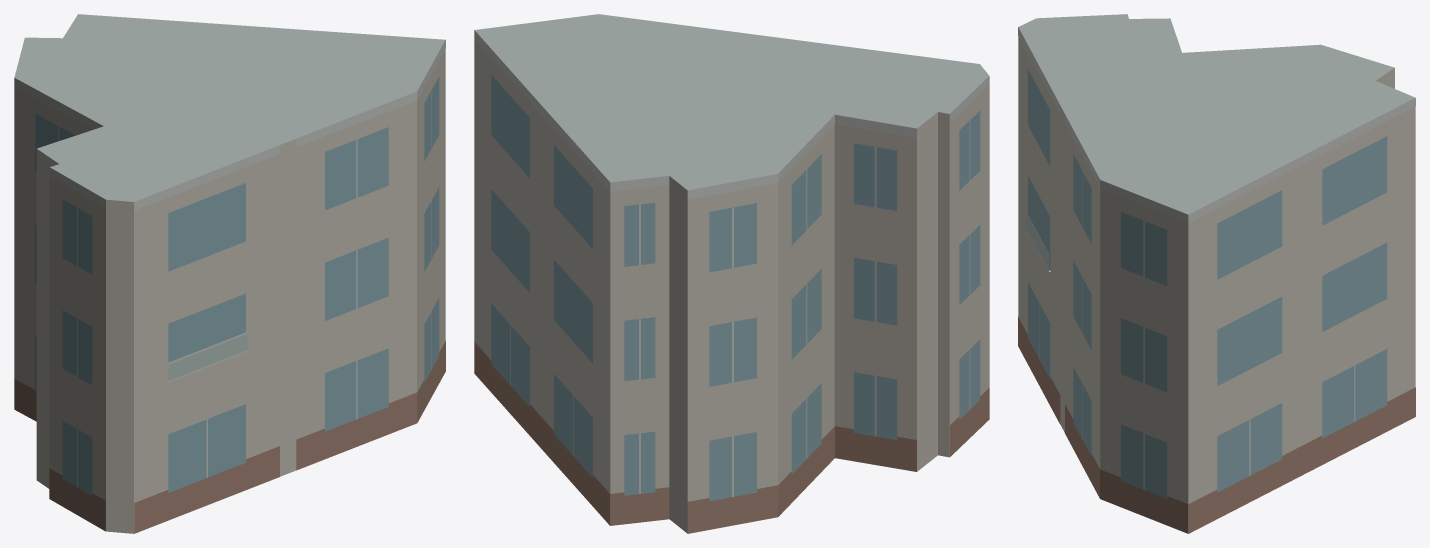
The model's file is survey-upis-32644976.glb.
3 views of the same model, side by side, from view 1: azimuth 30°, elevation 25°; view 2: azimuth 150°, elevation 25°; view 3: azimuth 270°, elevation 25° (orthographic). The views are drawn at different scales.
Parts seen in each view (by area): view 1: survey-upis-32644976.tmp; view 2: survey-upis-32644976.tmp; view 3: survey-upis-32644976.tmp.
Part boxes in pixels (x1,y1,x2,y2): survey-upis-32644976.tmp: (14, 14, 445, 533); survey-upis-32644976.tmp: (474, 14, 989, 533); survey-upis-32644976.tmp: (1018, 14, 1415, 533).
Bounding box in the file's own units: 12.15 × 9 × 10.17.
